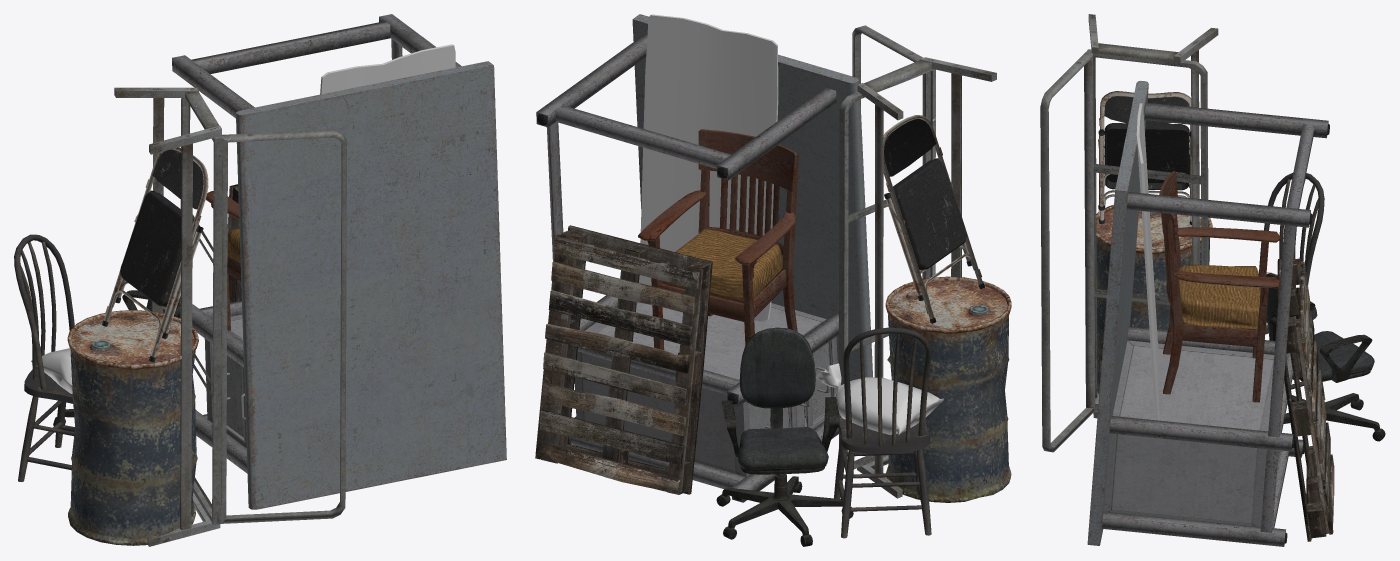
File: Barricade5.fbx
3 renders of one model, left to right at view 1: azimuth 30°, elevation 25°; view 2: azimuth 150°, elevation 25°; view 3: azimuth 270°, elevation 25°, orthographic. The views are drawn at different scales.
Parts seen in each view (by area): view 1: LOD_1_Group_0_Sub_1__sm30_093_STARSPClDesk01A_A_Mat1, LOD_1_Group_0_Sub_3__sm26_013_oilCan01A_A_Mat, LOD_1_Group_0_Sub_2__sm30_002_OfficeSofa01A_A_Mat1, LOD_1_Group_0_Sub_7__sm30_153_FoldingChair01A_A_Mat, LOD_1_Group_0_Sub_4__sm30_115_cafeChair01A_A_Mat, LOD_1_Group_0_Sub_9__sm26_022_WoodBoard01A_A_Mat, LOD_1_Group_0_Sub_5__sm30_118_WoodChair03A_A_Mat, LOD_1_Group_0_Sub_8__sm26_046_Sandbag04A_A_Mat__Env_default, LOD_1_Group_0_Sub_6__sm26_003_Palette01A_A_Mat; view 2: LOD_1_Group_0_Sub_1__sm30_093_STARSPClDesk01A_A_Mat1, LOD_1_Group_0_Sub_6__sm26_003_Palette01A_A_Mat, LOD_1_Group_0_Sub_3__sm26_013_oilCan01A_A_Mat, LOD_1_Group_0_Sub_9__sm26_022_WoodBoard01A_A_Mat, LOD_1_Group_0_Sub_5__sm30_118_WoodChair03A_A_Mat, LOD_1_Group_0_Sub_10__sm30_057_OfficeChair_A_Mat, LOD_1_Group_0_Sub_2__sm30_002_OfficeSofa01A_A_Mat1, LOD_1_Group_0_Sub_7__sm30_153_FoldingChair01A_A_Mat, LOD_1_Group_0_Sub_4__sm30_115_cafeChair01A_A_Mat, LOD_1_Group_0_Sub_8__sm26_046_Sandbag04A_A_Mat__Env_default; view 3: LOD_1_Group_0_Sub_1__sm30_093_STARSPClDesk01A_A_Mat1, LOD_1_Group_0_Sub_2__sm30_002_OfficeSofa01A_A_Mat1, LOD_1_Group_0_Sub_5__sm30_118_WoodChair03A_A_Mat, LOD_1_Group_0_Sub_6__sm26_003_Palette01A_A_Mat, LOD_1_Group_0_Sub_7__sm30_153_FoldingChair01A_A_Mat, LOD_1_Group_0_Sub_3__sm26_013_oilCan01A_A_Mat, LOD_1_Group_0_Sub_10__sm30_057_OfficeChair_A_Mat, LOD_1_Group_0_Sub_9__sm26_022_WoodBoard01A_A_Mat, LOD_1_Group_0_Sub_4__sm30_115_cafeChair01A_A_Mat.
Part boxes in pixels (<box>): LOD_1_Group_0_Sub_1__sm30_093_STARSPClDesk01A_A_Mat1: <box>172,14,506,509</box>; LOD_1_Group_0_Sub_3__sm26_013_oilCan01A_A_Mat: <box>67,310,198,545</box>; LOD_1_Group_0_Sub_2__sm30_002_OfficeSofa01A_A_Mat1: <box>114,87,346,546</box>; LOD_1_Group_0_Sub_7__sm30_153_FoldingChair01A_A_Mat: <box>102,147,208,362</box>; LOD_1_Group_0_Sub_4__sm30_115_cafeChair01A_A_Mat: <box>14,234,74,481</box>; LOD_1_Group_0_Sub_9__sm26_022_WoodBoard01A_A_Mat: <box>320,44,455,94</box>; LOD_1_Group_0_Sub_5__sm30_118_WoodChair03A_A_Mat: <box>205,191,241,330</box>; LOD_1_Group_0_Sub_8__sm26_046_Sandbag04A_A_Mat__Env_default: <box>31,348,72,393</box>; LOD_1_Group_0_Sub_6__sm26_003_Palette01A_A_Mat: <box>227,184,241,302</box>; LOD_1_Group_0_Sub_1__sm30_093_STARSPClDesk01A_A_Mat1: <box>536,14,872,502</box>; LOD_1_Group_0_Sub_6__sm26_003_Palette01A_A_Mat: <box>535,225,712,494</box>; LOD_1_Group_0_Sub_3__sm26_013_oilCan01A_A_Mat: <box>885,276,1011,502</box>; LOD_1_Group_0_Sub_9__sm26_022_WoodBoard01A_A_Mat: <box>639,14,778,321</box>; LOD_1_Group_0_Sub_5__sm30_118_WoodChair03A_A_Mat: <box>638,129,798,350</box>; LOD_1_Group_0_Sub_10__sm30_057_OfficeChair_A_Mat: <box>716,327,853,546</box>; LOD_1_Group_0_Sub_2__sm30_002_OfficeSofa01A_A_Mat1: <box>839,25,996,498</box>; LOD_1_Group_0_Sub_7__sm30_153_FoldingChair01A_A_Mat: <box>883,115,984,323</box>; LOD_1_Group_0_Sub_4__sm30_115_cafeChair01A_A_Mat: <box>834,327,931,538</box>; LOD_1_Group_0_Sub_8__sm26_046_Sandbag04A_A_Mat__Env_default: <box>816,363,943,435</box>; LOD_1_Group_0_Sub_1__sm30_093_STARSPClDesk01A_A_Mat1: <box>1087,81,1329,546</box>; LOD_1_Group_0_Sub_2__sm30_002_OfficeSofa01A_A_Mat1: <box>1040,14,1218,452</box>; LOD_1_Group_0_Sub_5__sm30_118_WoodChair03A_A_Mat: <box>1159,171,1280,402</box>; LOD_1_Group_0_Sub_6__sm26_003_Palette01A_A_Mat: <box>1276,258,1334,541</box>; LOD_1_Group_0_Sub_7__sm30_153_FoldingChair01A_A_Mat: <box>1098,91,1191,224</box>; LOD_1_Group_0_Sub_3__sm26_013_oilCan01A_A_Mat: <box>1096,204,1212,394</box>; LOD_1_Group_0_Sub_10__sm30_057_OfficeChair_A_Mat: <box>1266,272,1385,441</box>; LOD_1_Group_0_Sub_9__sm26_022_WoodBoard01A_A_Mat: <box>1136,103,1159,420</box>; LOD_1_Group_0_Sub_4__sm30_115_cafeChair01A_A_Mat: <box>1263,173,1325,399</box>.
Size of the model in its own units: 2.22 by 2.14 by 1.78.
